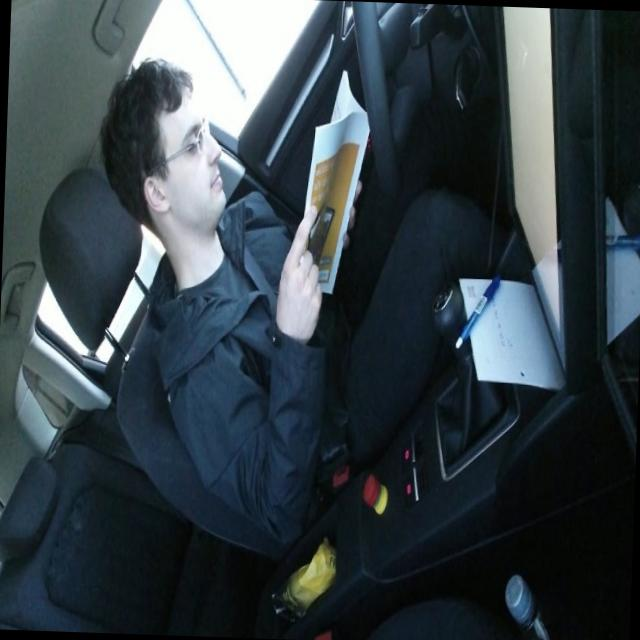pen: (454, 270, 501, 350)
